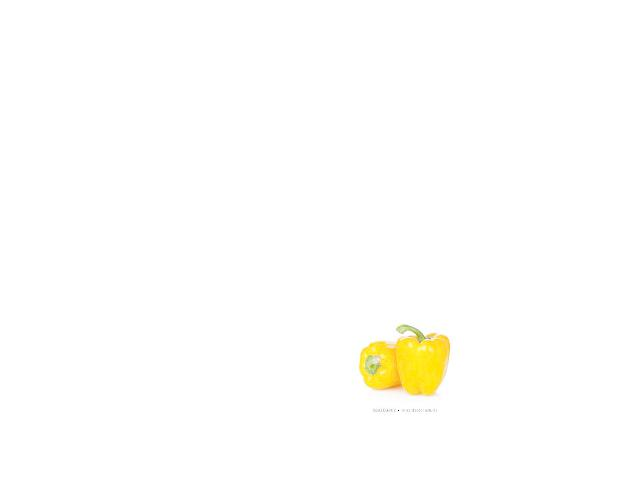bell_pepper: (358, 337, 403, 392)
